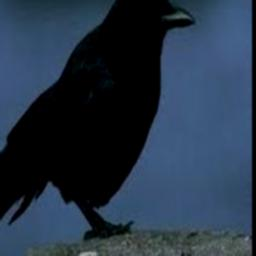Crow: (0, 0, 194, 256)
